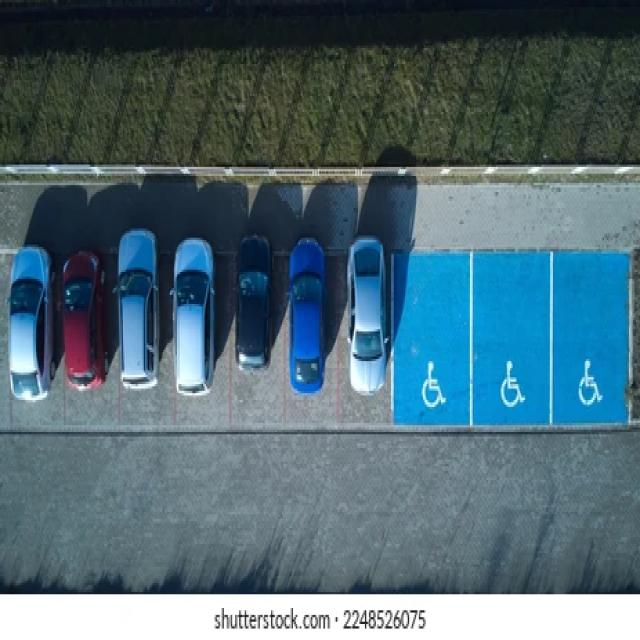discapacitados: (396, 258, 472, 420), (554, 262, 631, 421), (475, 261, 542, 419)
ocupado: (1, 240, 387, 414)
